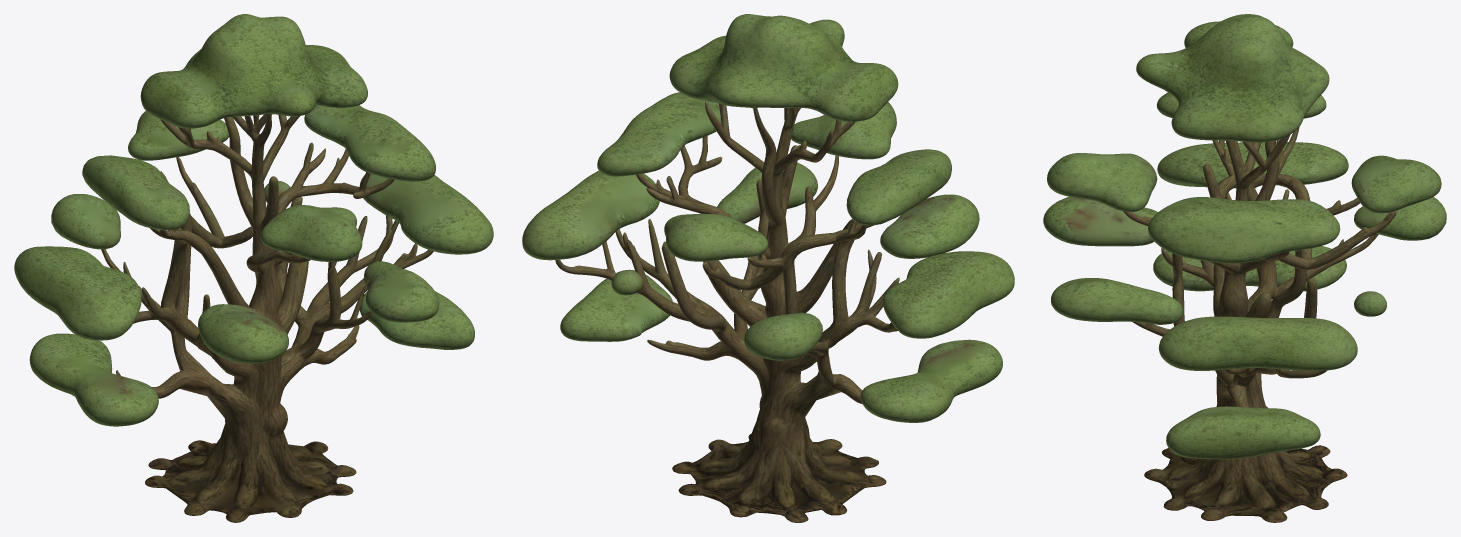
Rendered from tree3.glb.
3 views of the same model, side by side, from view 1: azimuth 30°, elevation 25°; view 2: azimuth 150°, elevation 25°; view 3: azimuth 270°, elevation 25° (orthographic).
Visible parts, largest first — view 1: texture_pbr_v128; view 2: texture_pbr_v128; view 3: texture_pbr_v128.
Part boxes in pixels (bbox=[...]): texture_pbr_v128: bbox=[14, 14, 493, 522]; texture_pbr_v128: bbox=[522, 14, 1014, 522]; texture_pbr_v128: bbox=[1043, 14, 1446, 522].
Size of the model in its own units: 2.19 by 2.29 by 1.82.
1 material, 1 textured.
